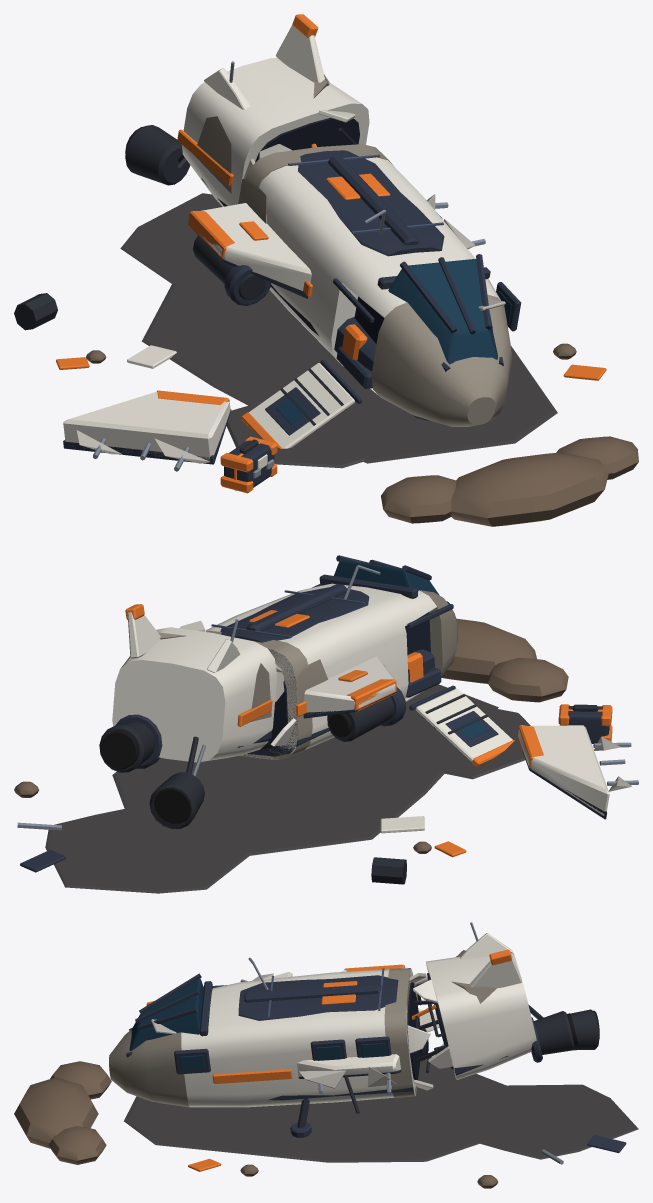
File: courier_wreck.fbx
3 views of the same model, one above another, from view 1: azimuth 30°, elevation 25°; view 2: azimuth 150°, elevation 25°; view 3: azimuth 270°, elevation 25° (orthographic). The views are drawn at different scales.
Visible parts, largest first — view 1: Hull, Ground, Debris, DataCase; view 2: Hull, Ground, Debris, DataCase; view 3: Hull, Ground, Debris.
Part boxes in pixels (x1,y1,x2,y2): Hull: (63, 14, 521, 471); Ground: (86, 193, 638, 526); Debris: (14, 293, 606, 380); DataCase: (220, 436, 277, 493); Hull: (99, 555, 638, 828); Ground: (14, 618, 568, 893); Debris: (17, 816, 466, 884); DataCase: (558, 704, 612, 743); Hull: (109, 922, 599, 1137); Ground: (14, 1056, 638, 1188); Debris: (188, 1135, 626, 1171).
Bounding box in the file's own units: 17.45 × 8.66 × 23.61.
Materials: 1 (1 with a texture image).
